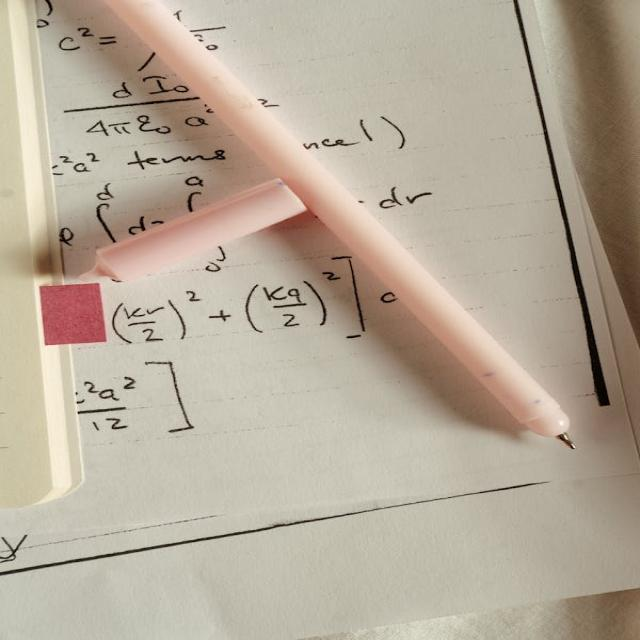pen: (28, 0, 629, 465)
